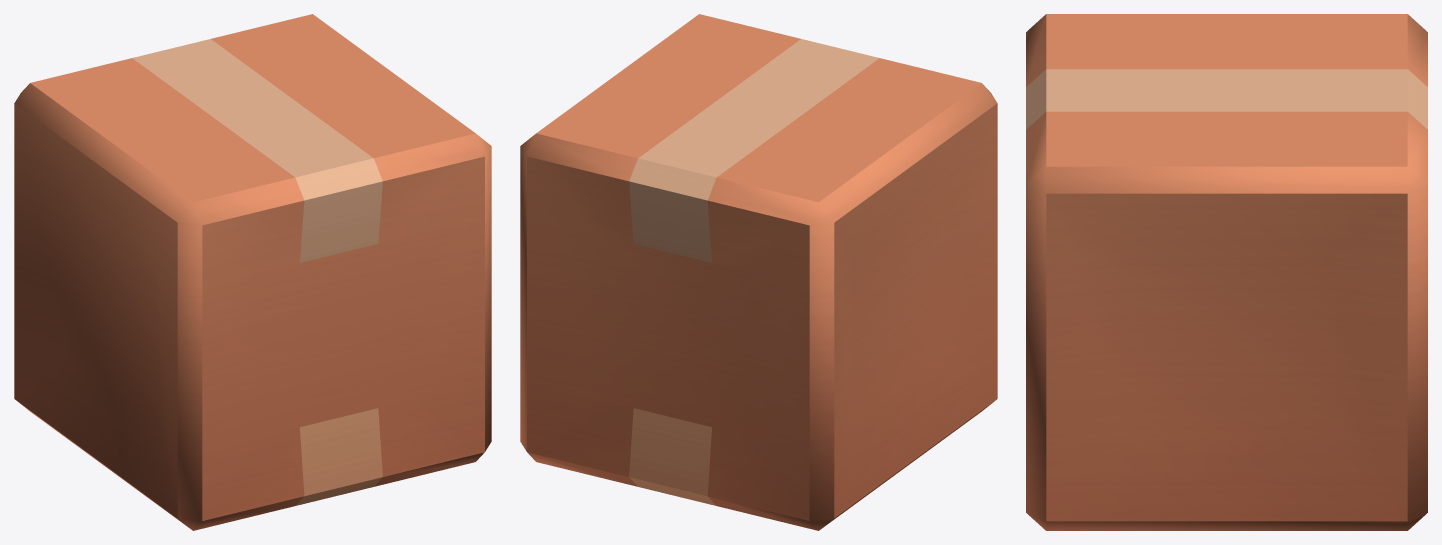
3 views of the same model, side by side, from view 1: azimuth 30°, elevation 25°; view 2: azimuth 150°, elevation 25°; view 3: azimuth 270°, elevation 25° (orthographic). The views are drawn at different scales.
Visible parts, largest first — view 1: box; view 2: box; view 3: box.
Part boxes in pixels (x1,y1,x2,y2): box: [14, 14, 491, 530]; box: [520, 14, 997, 530]; box: [1026, 14, 1427, 530].
Size of the model in its own units: 0.25 by 0.25 by 0.25.
Materials: 1 (1 with a texture image).
